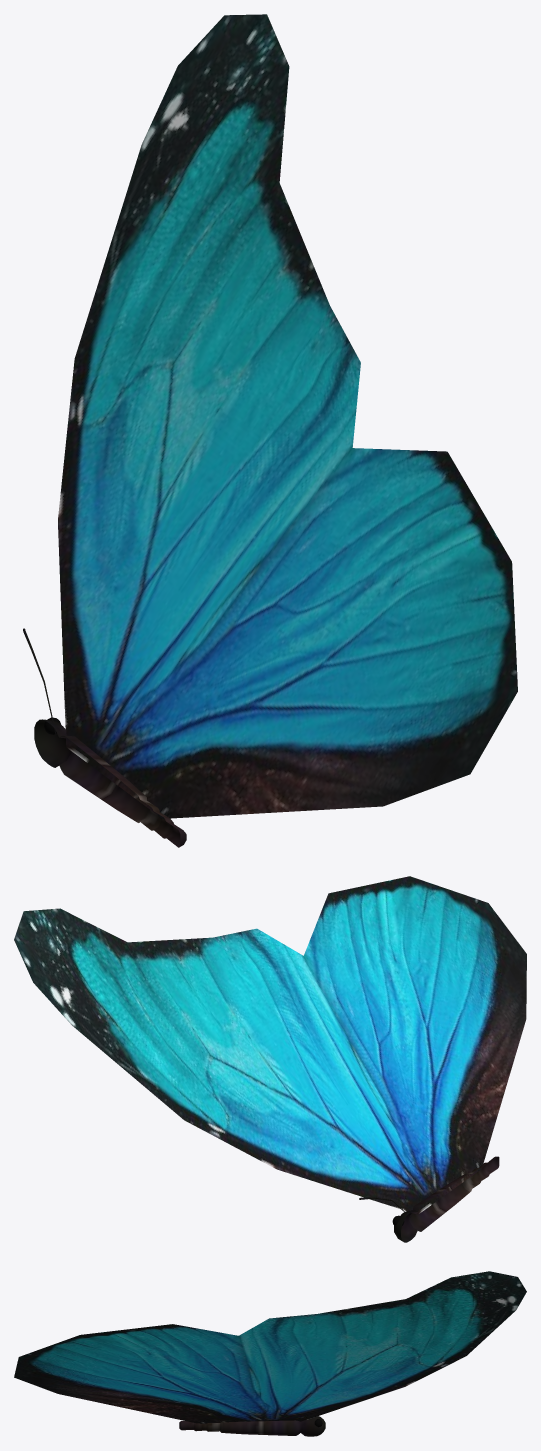
Rendered from butterfly.glb.
3 renders of one model, top to bottom at view 1: azimuth 30°, elevation 25°; view 2: azimuth 150°, elevation 25°; view 3: azimuth 270°, elevation 25°, orthographic. The views are drawn at different scales.
Visible parts, largest first — view 1: WINGS; view 2: WINGS; view 3: WINGS.
Part boxes in pixels (<box>): WINGS: <box>23,14,517,847</box>; WINGS: <box>14,876,526,1242</box>; WINGS: <box>14,1271,526,1436</box>.
Bounding box in the file's own units: 1 × 1.26 × 2.25.
Materials: 2 (1 with a texture image).
